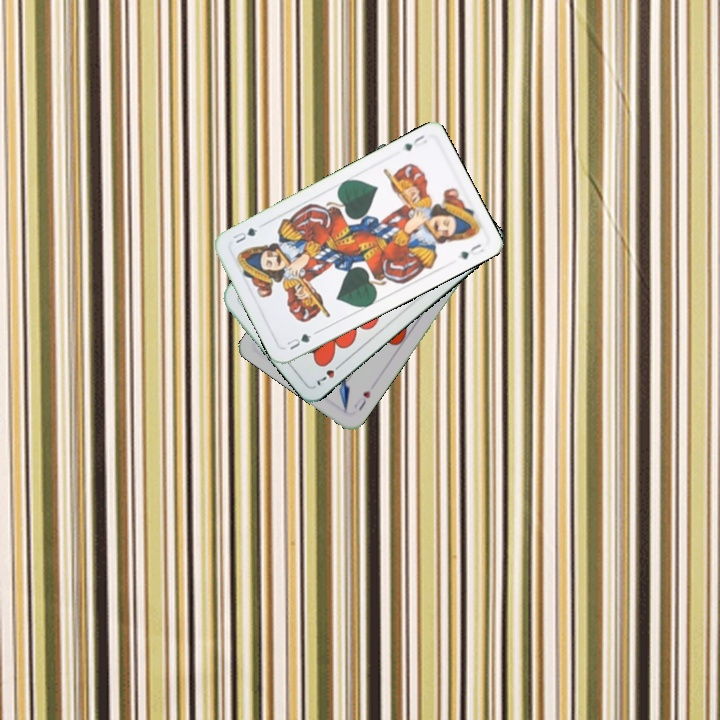GU: (283, 329, 314, 353), (400, 131, 427, 154)
H7: (310, 359, 345, 389)
HU: (350, 386, 373, 414)
